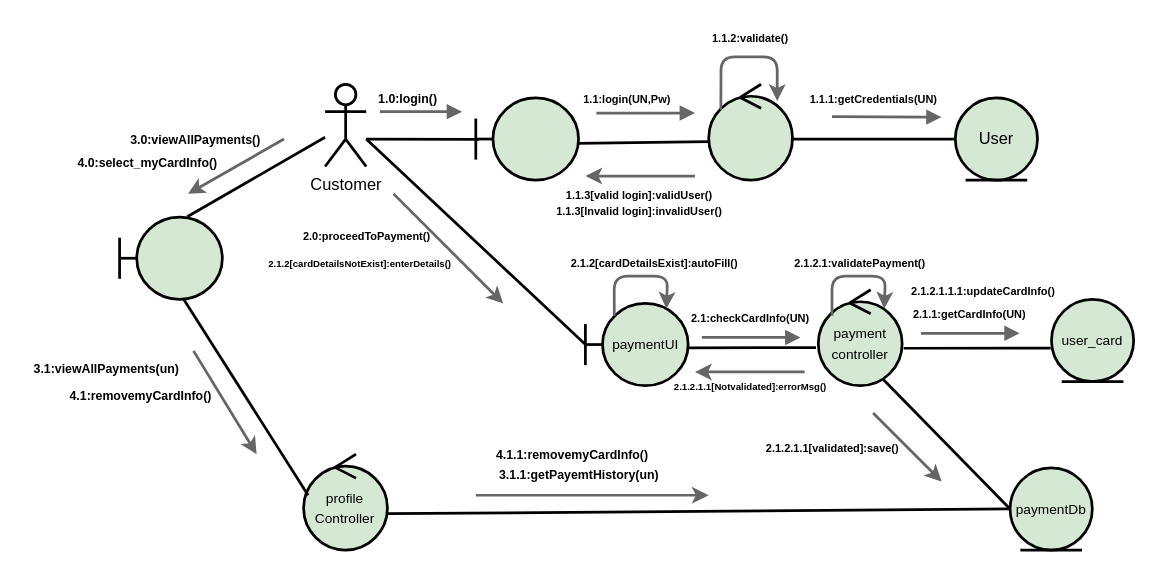
The diagram is 1163 pixels wide and 574 high, and some of its shapes have lost their labels. Each missing label, with the box of its shape:
login Controller: (707, 82, 793, 181)
loginUI: (474, 96, 579, 181)
profileUI: (118, 215, 223, 300)
